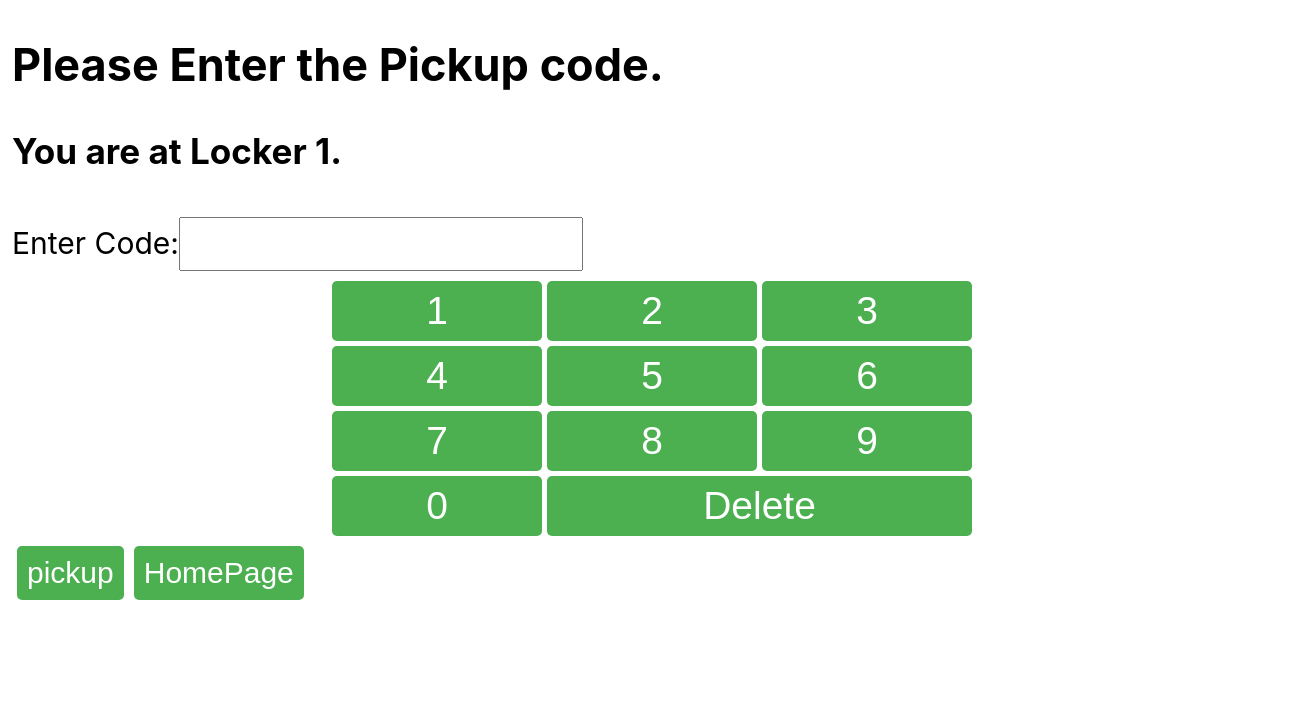
it: ParcelLockerInterface › handles pickup action
Note: Click digit buttons
Click the button "1": x=437, y=311 [332,281,542,341]
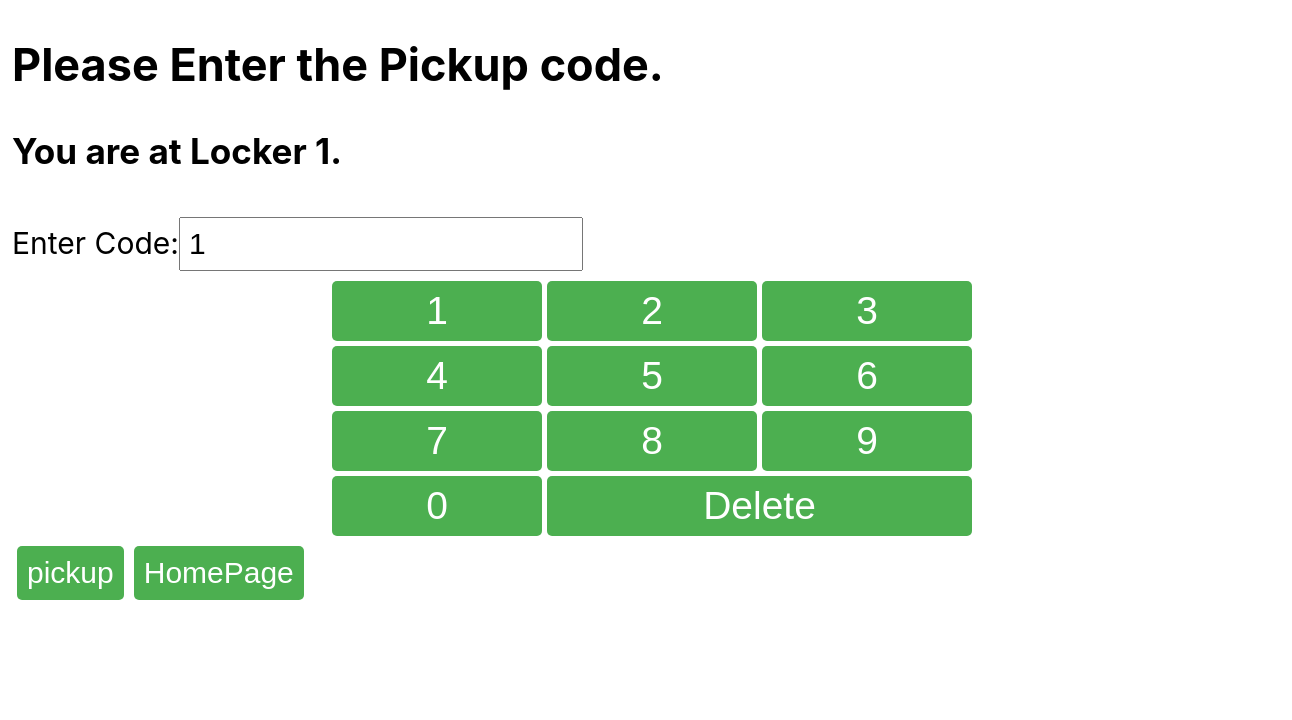
Note: Use act to wait for state changes
Click the button "pickup": x=70, y=573 [17,546,124,600]
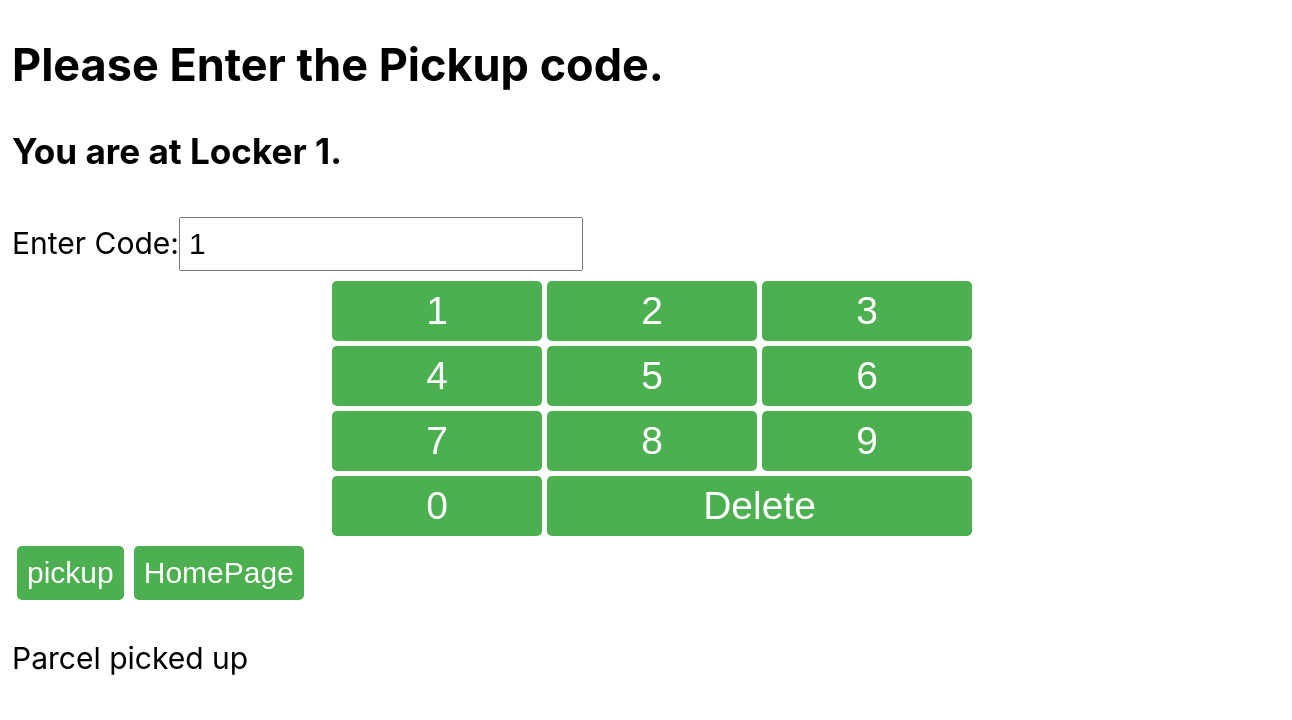
Result: the text "Parcel picked up" is shown at [12,640,248,676]
